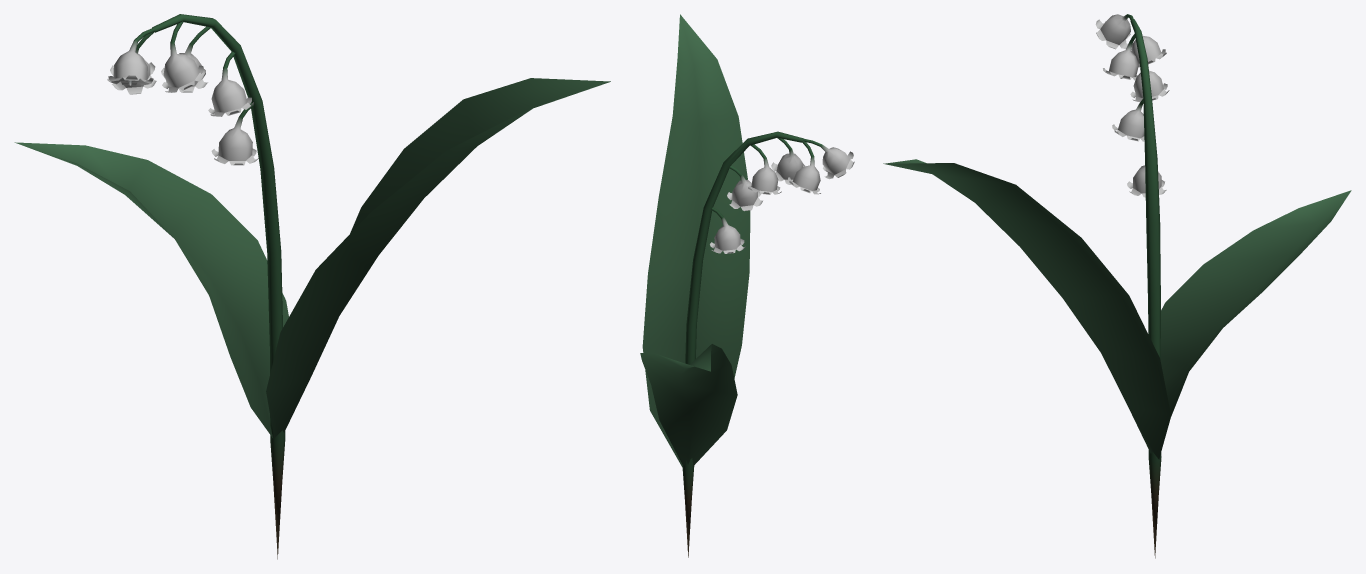
File: plants-flowers-lily-of-the-valley_v3.fbx
3 renders of one model, left to right at view 1: azimuth 30°, elevation 25°; view 2: azimuth 150°, elevation 25°; view 3: azimuth 270°, elevation 25°, orthographic. The views are drawn at different scales.
Parts seen in each view (by area): view 1: Lily of the Valley_v3; view 2: Lily of the Valley_v3; view 3: Lily of the Valley_v3.
Boxes of the visible parts, x1,y1,x2,y2 form: Lily of the Valley_v3: (14, 14, 610, 559); Lily of the Valley_v3: (640, 14, 854, 557); Lily of the Valley_v3: (883, 14, 1351, 558).
Bounding box in the file's own units: 0.1649 × 0.25 × 0.218.
